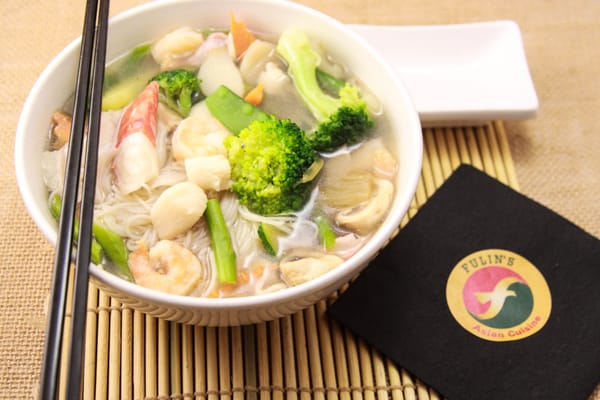curry: (275, 27, 375, 154), (225, 116, 319, 216), (206, 84, 275, 136), (205, 196, 238, 284), (155, 68, 204, 117)
sushi: (20, 0, 570, 388), (23, 7, 426, 314)
